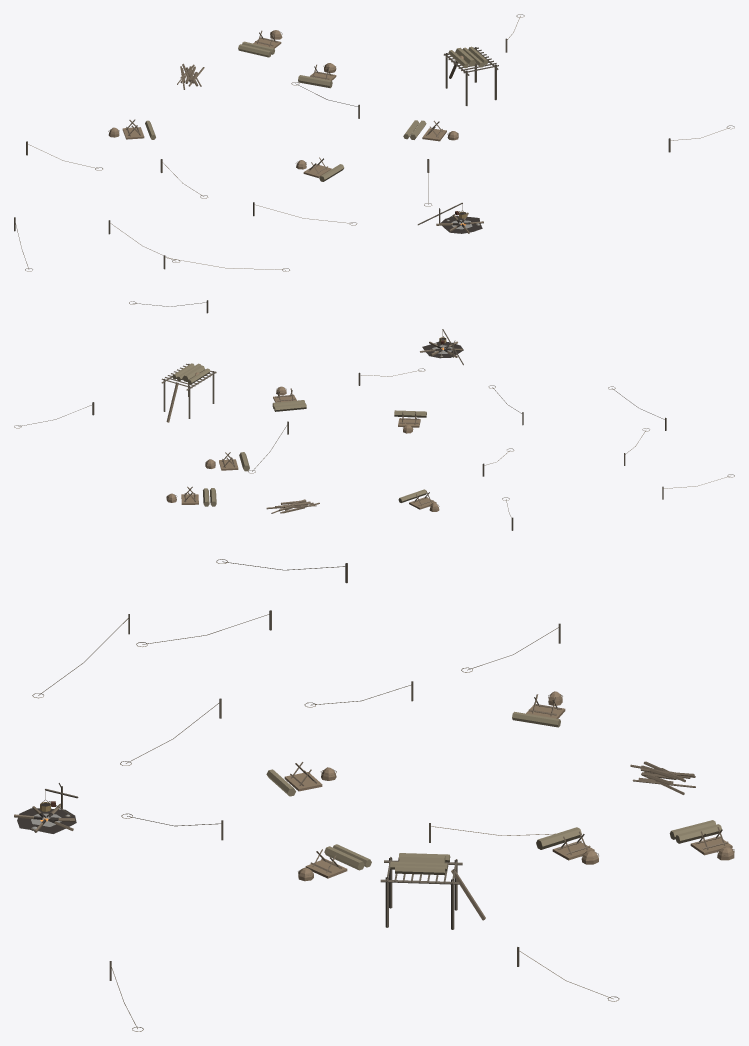
The model's file is potawatomi_camp_1812_horse_ground__camp_1812.glb.
The picture shows the model from 3 angles, top to bottom: view 1: azimuth 30°, elevation 25°; view 2: azimuth 150°, elevation 25°; view 3: azimuth 270°, elevation 25°; orthographic projection. The views are drawn at different scales.
Visible parts, largest first — view 1: potawatomi_camp_1812_horse_ground__camp_1812; view 2: potawatomi_camp_1812_horse_ground__camp_1812; view 3: potawatomi_camp_1812_horse_ground__camp_1812.
Part boxes in pixels (<box>): potawatomi_camp_1812_horse_ground__camp_1812: <box>14,14,734,271</box>; potawatomi_camp_1812_horse_ground__camp_1812: <box>14,300,734,530</box>; potawatomi_camp_1812_horse_ground__camp_1812: <box>14,559,734,1031</box>.
Size of the model in its own units: 34.08 by 2 by 21.96.
